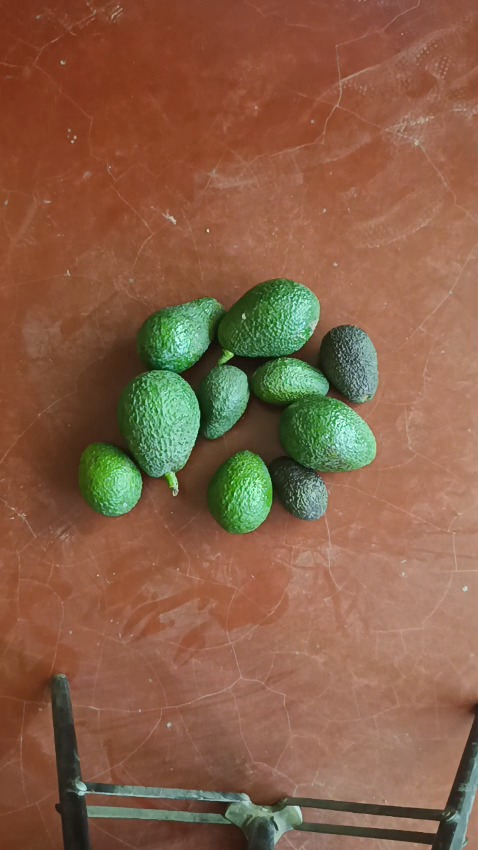Primera: (117, 369, 201, 484), (217, 278, 321, 358)
Segunda: (279, 396, 376, 473), (137, 298, 225, 373)
Tercera: (207, 449, 273, 532), (77, 442, 143, 517), (318, 325, 379, 404), (196, 362, 249, 439), (250, 357, 330, 406), (269, 456, 328, 520)
